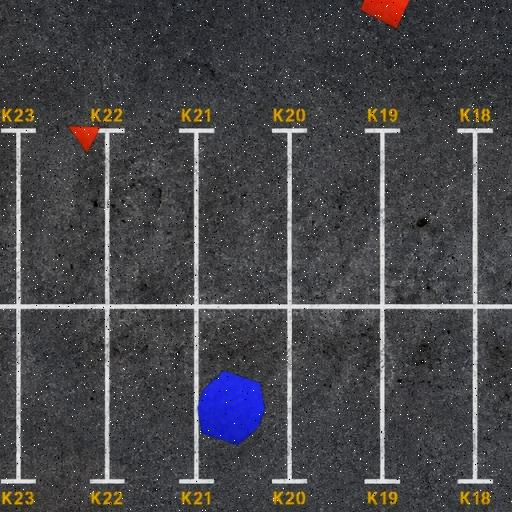RED_SQUARE: (360, 0, 414, 30)
